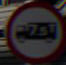Heavy Vehicles: (9, 7, 59, 52)
